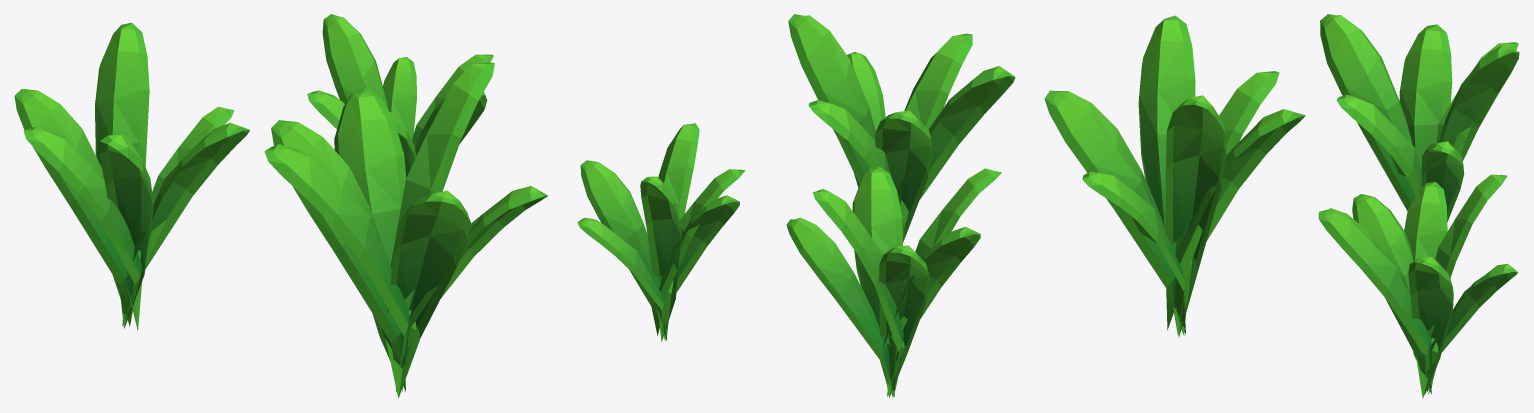
File: crop_carrot_stage2.glb
3 renders of one model, left to right at view 1: azimuth 30°, elevation 25°; view 2: azimuth 150°, elevation 25°; view 3: azimuth 270°, elevation 25°, orthographic. The views are drawn at different scales.
Visible parts, largest first — view 1: crop_carrot_stage2; view 2: crop_carrot_stage2; view 3: crop_carrot_stage2.
Part boxes in pixels (box(x1,y1,x2,y2)): crop_carrot_stage2: box(14, 14, 547, 398); crop_carrot_stage2: box(577, 14, 1015, 397); crop_carrot_stage2: box(1044, 14, 1519, 398).
Bounding box in the file's own units: 0.3912 × 0.24 × 0.3703.
1 material, 1 textured.
